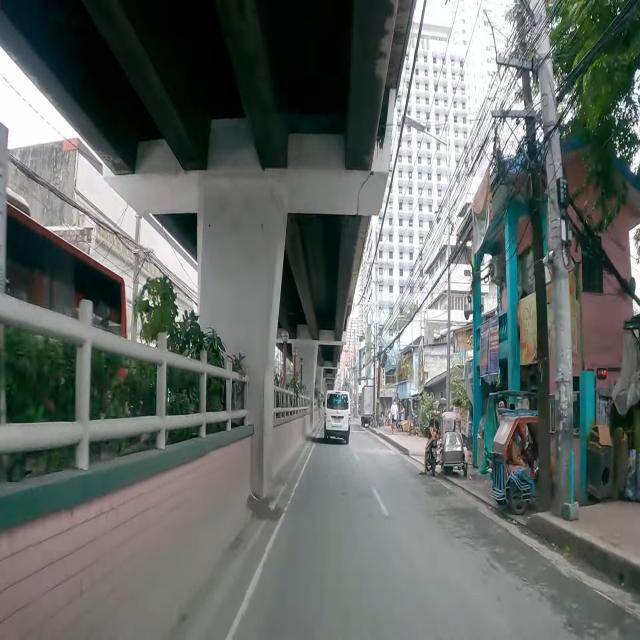bus: (7, 184, 128, 388)
car: (322, 390, 350, 446)
tricycle: (488, 390, 544, 515), (420, 402, 468, 479)
truck: (361, 386, 379, 428)
